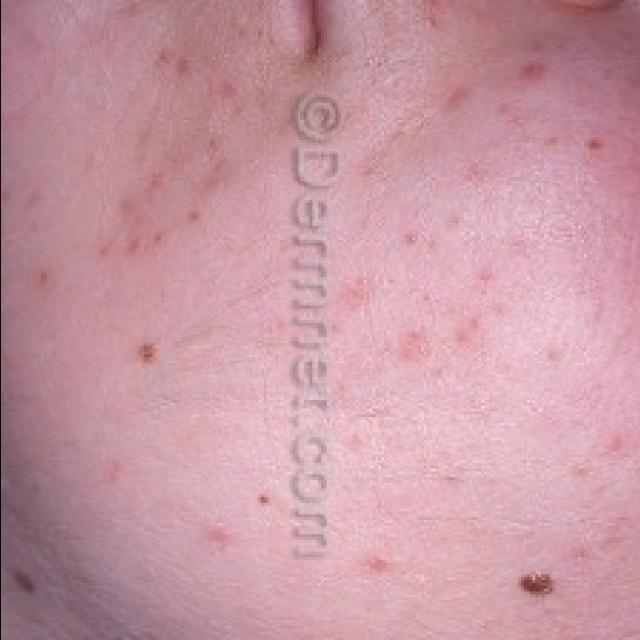Acne: (3, 21, 625, 587)
